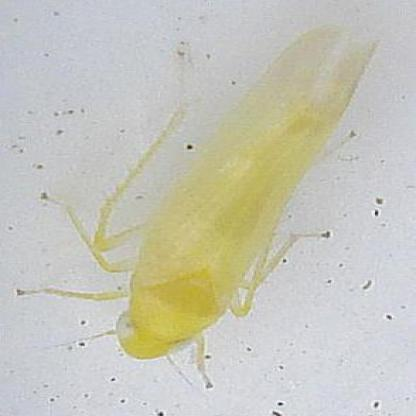green-leafhopper: (97, 32, 375, 362)
